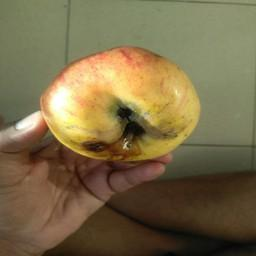Bad_apple: (34, 46, 203, 160)
